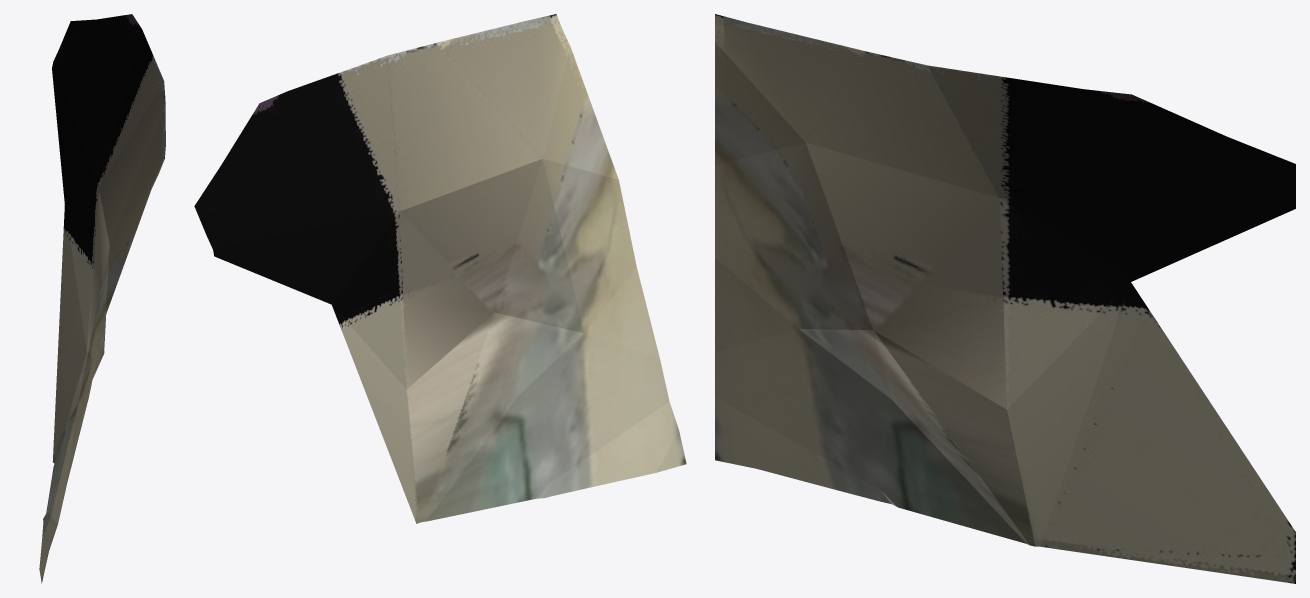
3 views of the same model, side by side, from view 1: azimuth 30°, elevation 25°; view 2: azimuth 150°, elevation 25°; view 3: azimuth 270°, elevation 25° (orthographic). The views are drawn at different scales.
Size of the model in its own units: 1.1 by 1.67 by 1.67.
3 materials, 3 textured.
